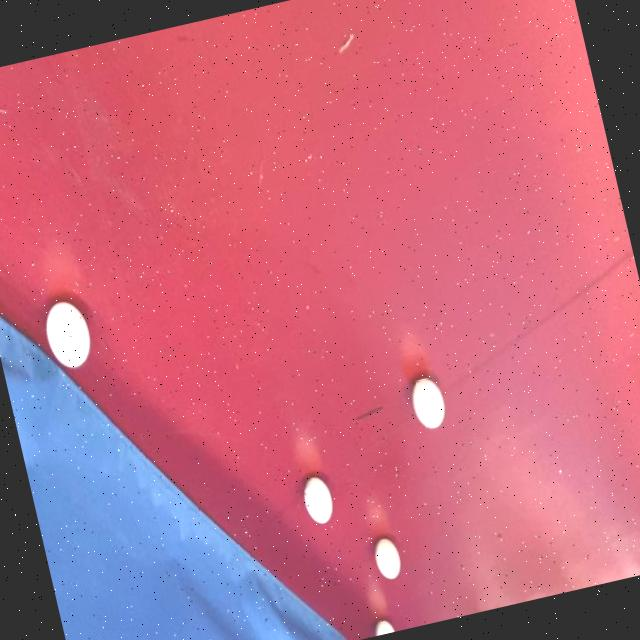ping-pong-ball: (36, 290, 100, 375), (406, 372, 453, 432), (298, 468, 342, 530), (369, 531, 407, 584), (370, 614, 400, 636)
